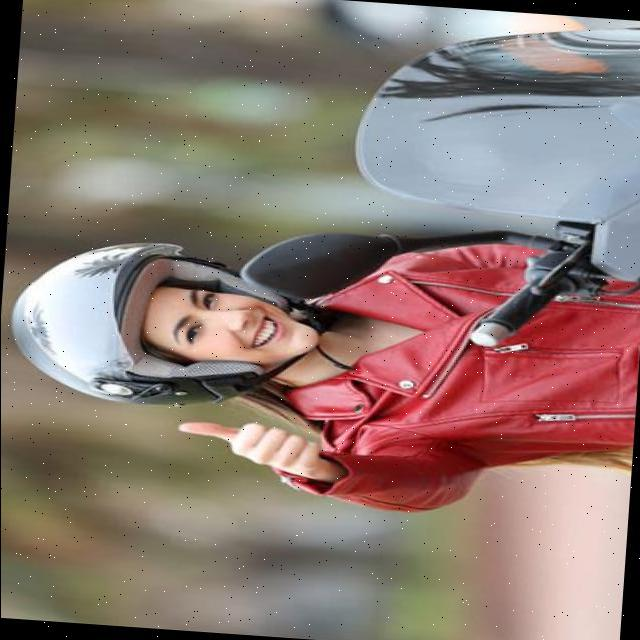Helm: (4, 234, 329, 422)
